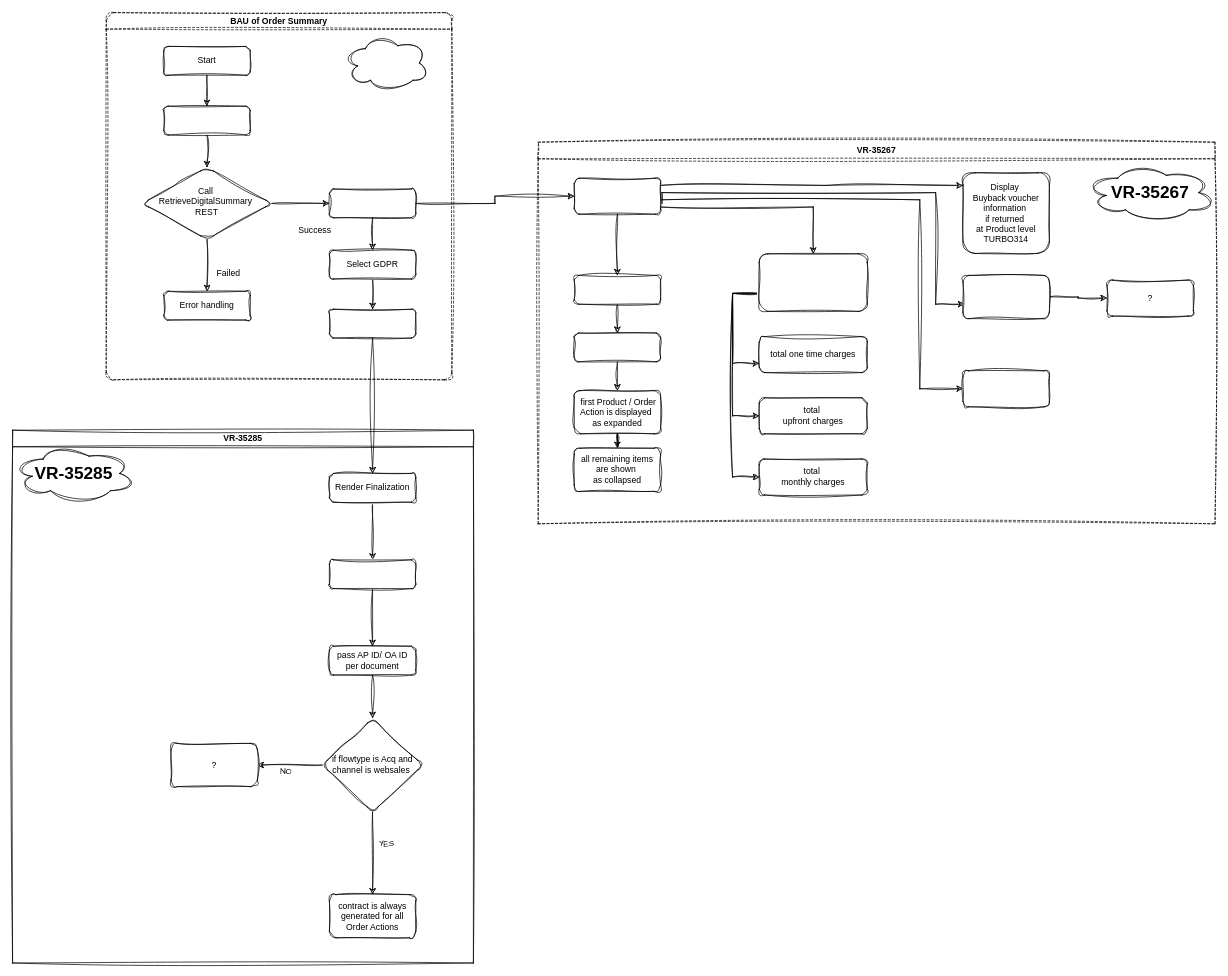
This 1228x976 diagram has some shape labels left out. Each missing label, with the box of its shape:
BAU: (343, 33, 430, 92)
Continue From Shipping: (163, 105, 250, 135)
CONTINUE to Finalization: (329, 309, 416, 338)
create accordions per order action: (573, 332, 661, 362)
Display shipping fee message in its own order-level section: (962, 275, 1049, 319)
Display totals across all Order Actions, returned by OMS RetrieveDigitalSummary: (759, 253, 867, 311)
Drill till order actions: (573, 275, 661, 304)
From summary response: (573, 177, 661, 214)
Generate Contract API: (329, 559, 416, 589)
Render Order Summary: (329, 188, 416, 218)
